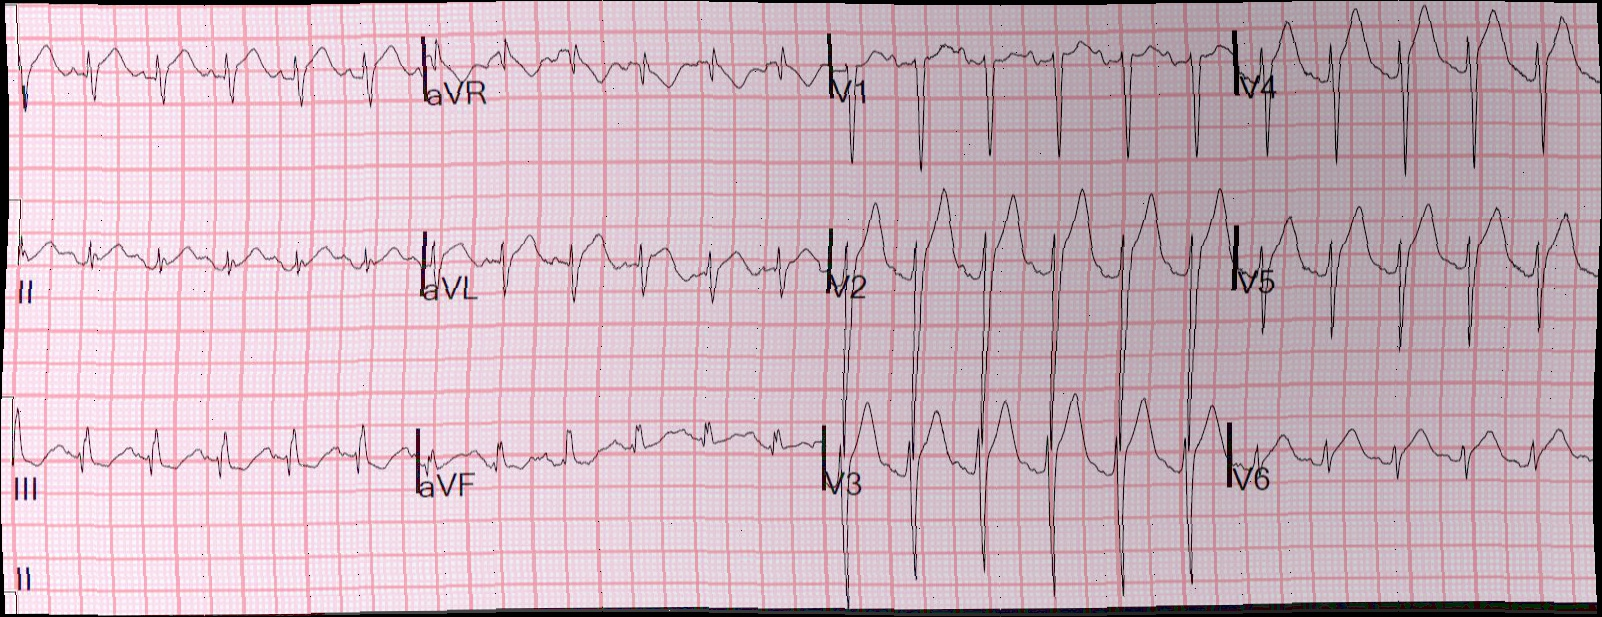Lead_I: (5, 15, 421, 131)
Lead_II: (0, 195, 421, 326)
Lead_III: (2, 389, 422, 525)
Lead_V1: (825, 5, 1231, 175)
Lead_V2: (827, 173, 1237, 462)
Lead_V3: (824, 385, 1235, 612)
Lead_V4: (1234, 0, 1602, 186)
Lead_V5: (1237, 199, 1602, 377)
Lead_V6: (1234, 403, 1602, 548)
Lead_aVF: (423, 404, 828, 527)
Lead_aVL: (417, 200, 830, 326)
Lead_aVR: (417, 7, 827, 133)
